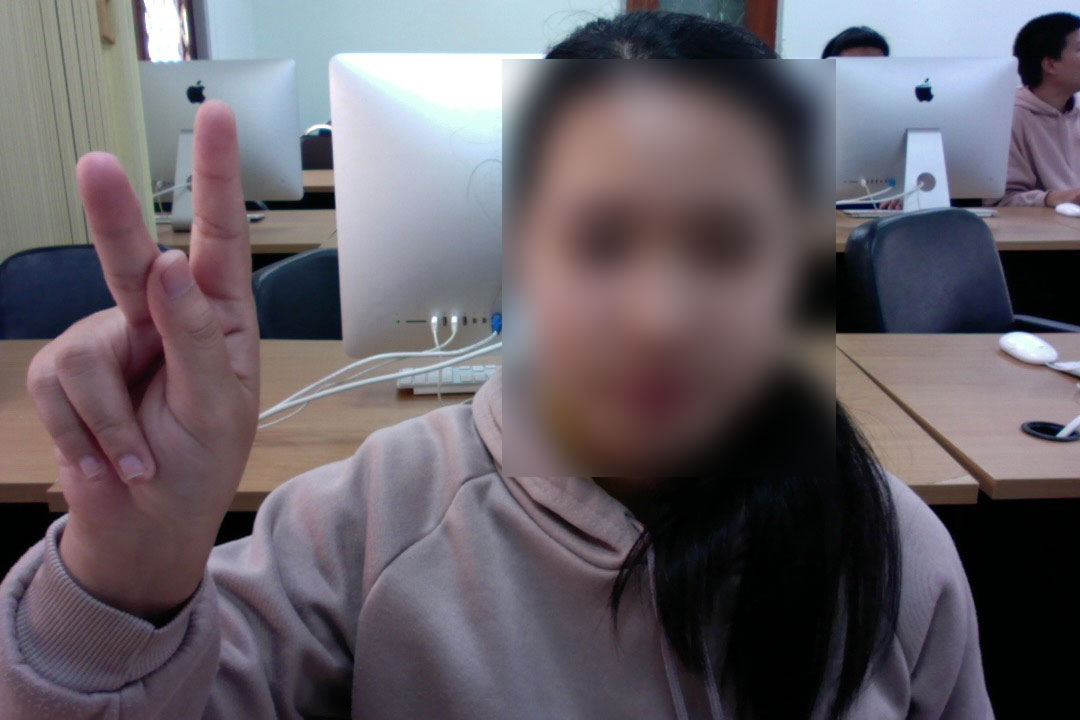ko: (15, 85, 274, 564)
